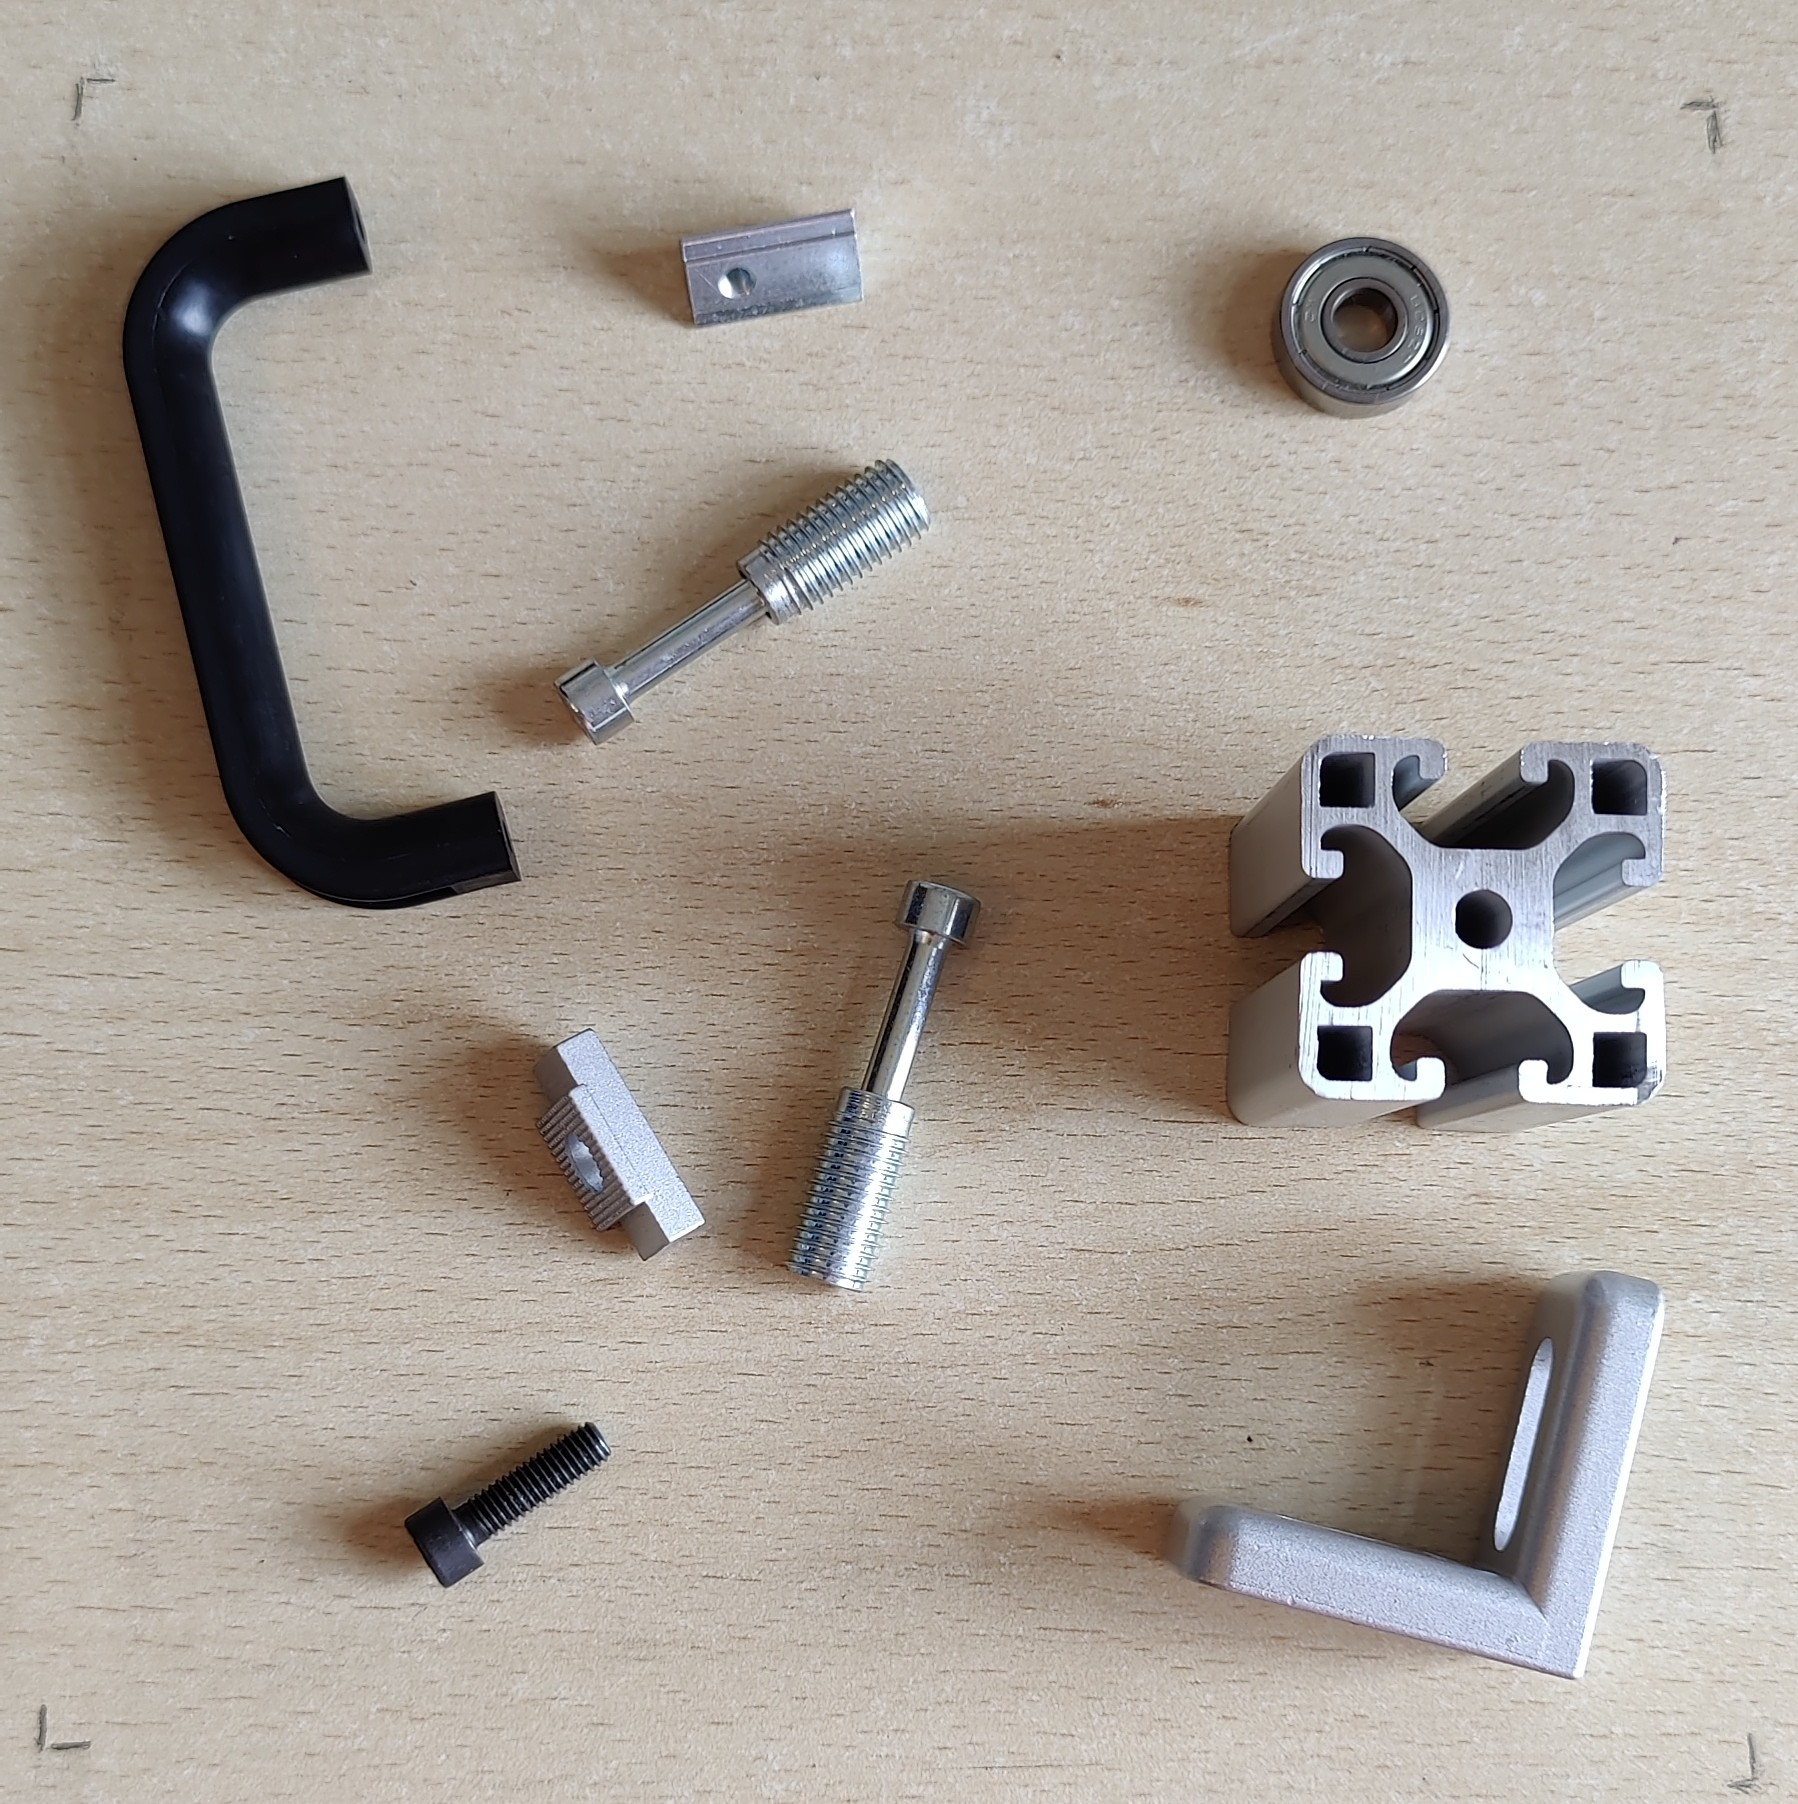Aluminium Extension: (1223, 731, 1670, 1137)
Ball Bearing: (1269, 234, 1456, 421)
Multiwinkel: (1162, 1271, 1670, 1684)
Pull Handle: (119, 171, 525, 912)
Shoulder Socket Head Cap Screw: (552, 453, 935, 746), (784, 876, 985, 1294)
Socket Head Cap Screw: (400, 1416, 614, 1588)
T Nut Square: (529, 1025, 710, 1266)
T Spring Nut: (673, 206, 869, 331)
